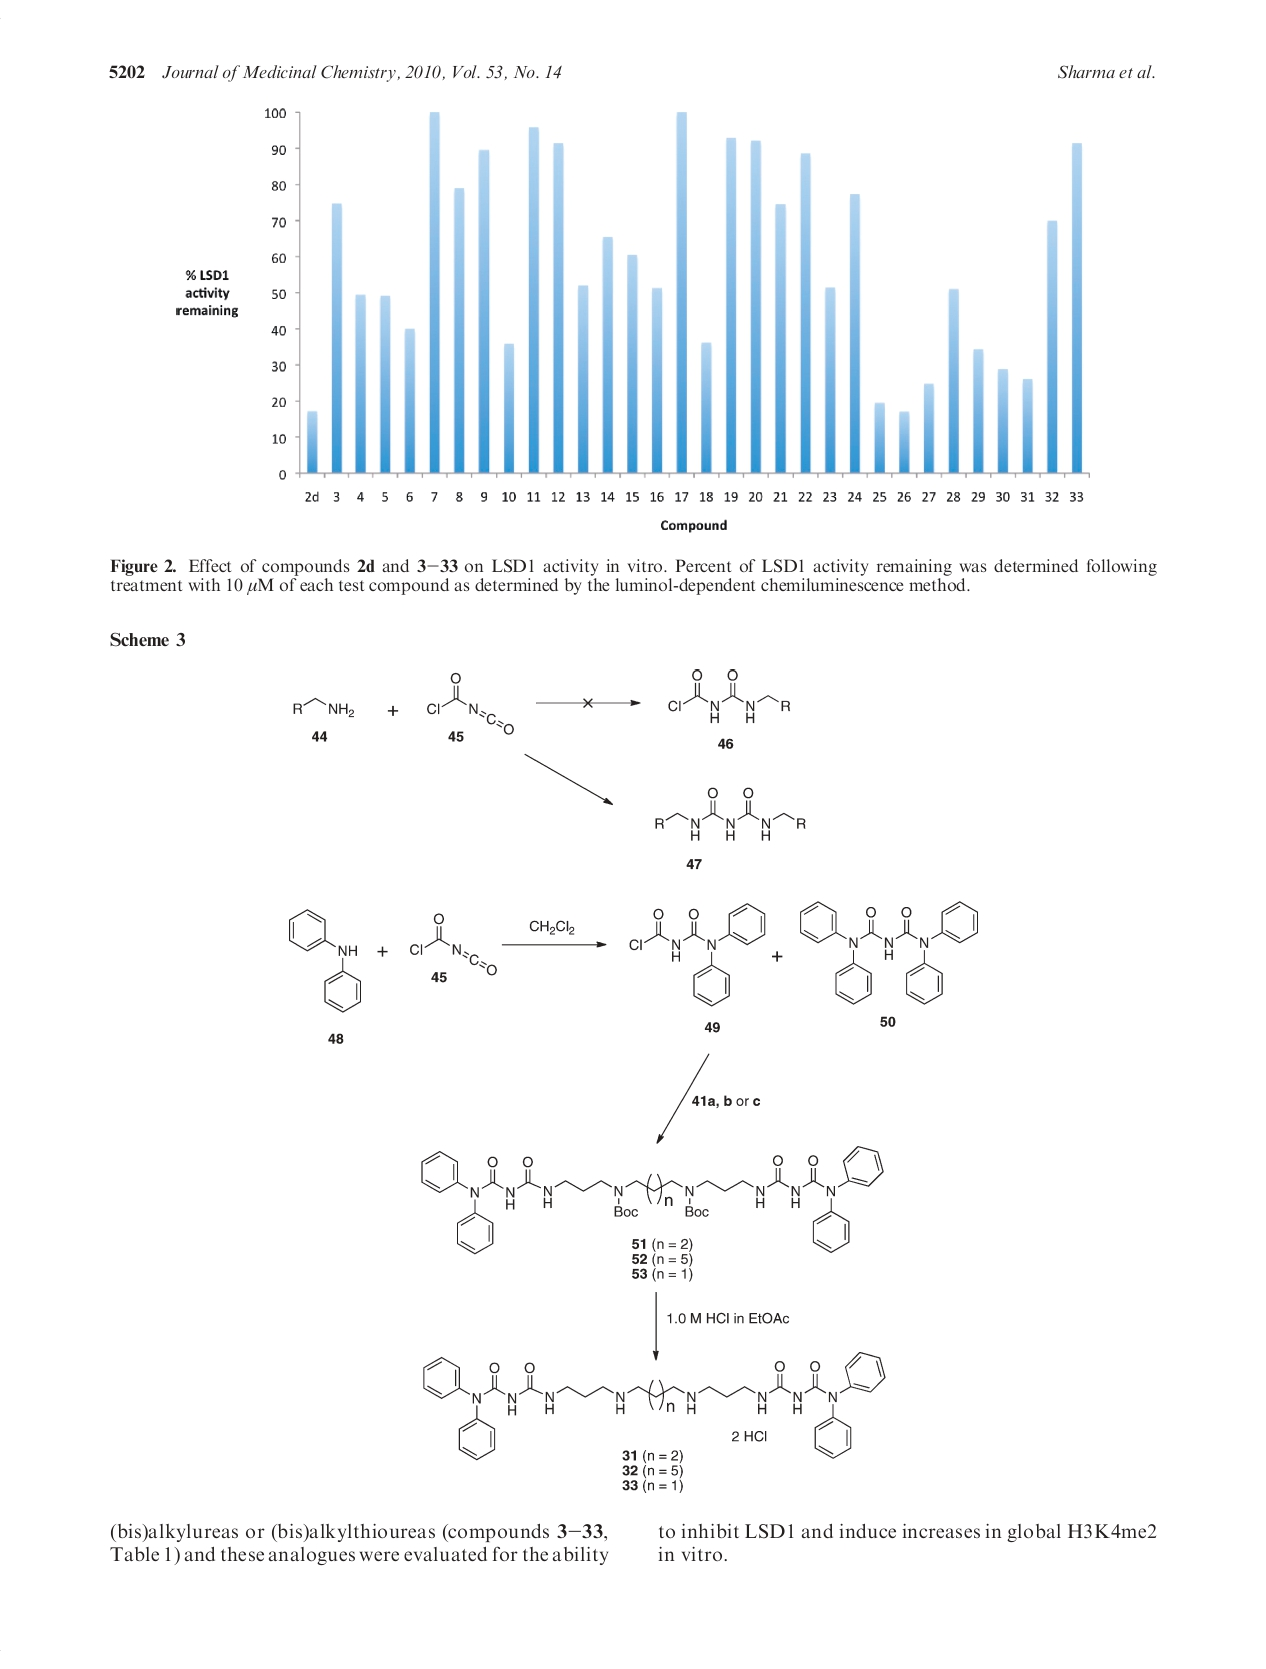exist_molecular: (414, 1339, 890, 1470), (406, 1141, 904, 1255), (789, 891, 992, 1003), (622, 895, 774, 1011), (658, 665, 805, 735), (282, 903, 368, 1019), (420, 665, 527, 741), (406, 914, 505, 985), (282, 693, 358, 725)
